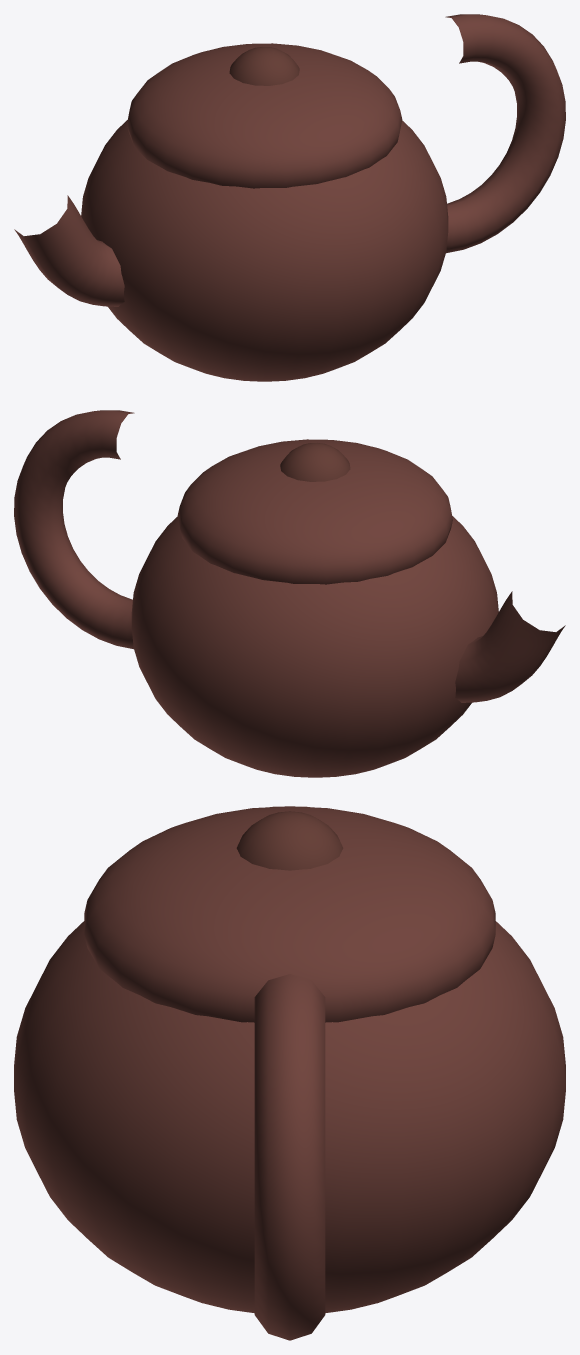
File: huaiyang_prop_teapot.glb
3 views of the same model, one above another, from view 1: azimuth 30°, elevation 25°; view 2: azimuth 150°, elevation 25°; view 3: azimuth 270°, elevation 25° (orthographic). The views are drawn at different scales.
Size of the model in its own units: 0.2552 by 0.1395 by 0.1492.
